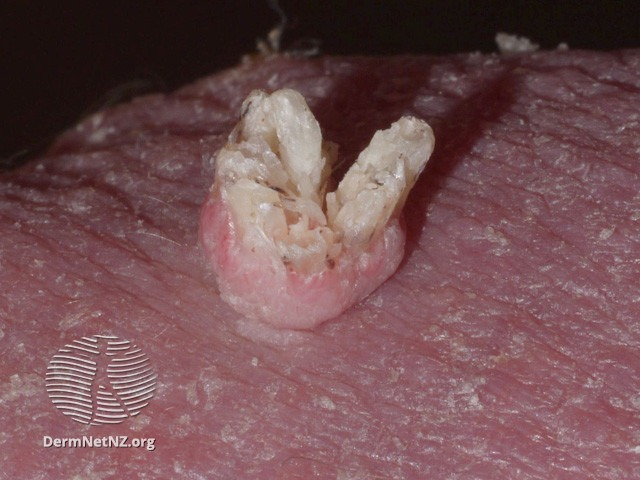Warts: (189, 66, 446, 342)
